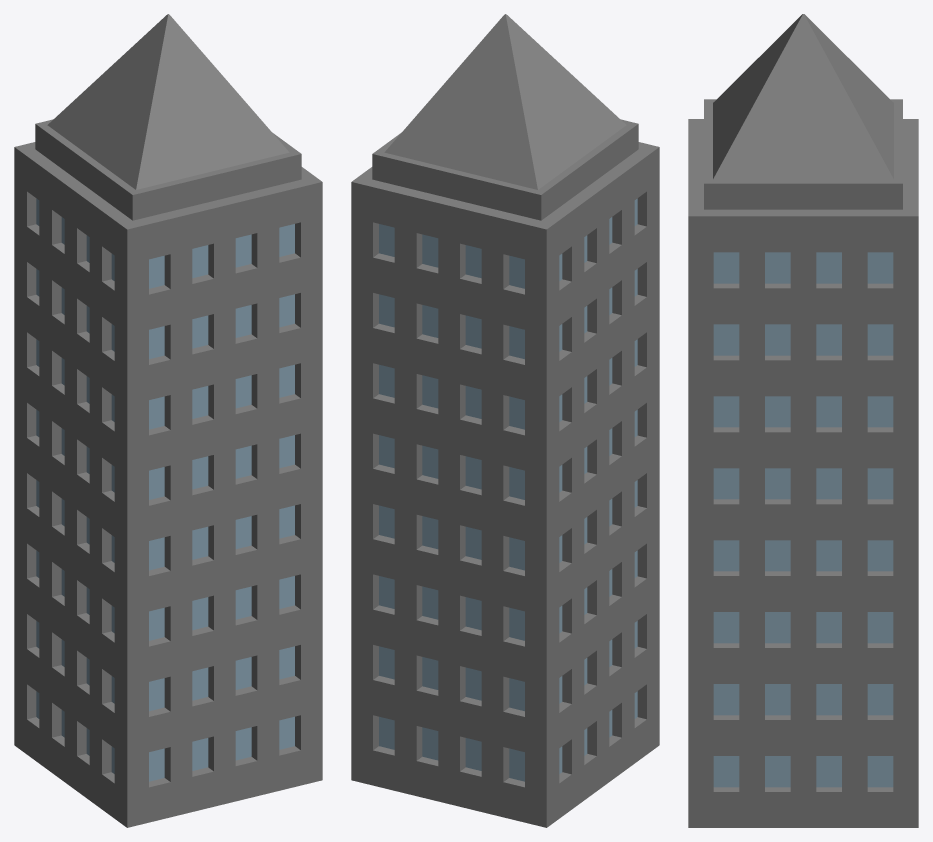
Rendered from BUILDING WITH POINT 1 final.fbx.
3 views of the same model, side by side, from view 1: azimuth 30°, elevation 25°; view 2: azimuth 150°, elevation 25°; view 3: azimuth 270°, elevation 25° (orthographic). The views are drawn at different scales.
Visible parts, largest first — view 1: pCube1; view 2: pCube1; view 3: pCube1.
Boxes of the visible parts, bbox=[...] form: pCube1: bbox=[14, 14, 322, 827]; pCube1: bbox=[351, 14, 659, 827]; pCube1: bbox=[688, 14, 918, 827].
Size of the model in its own units: 10.09 by 36.94 by 10.09.
